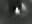person: (22, 4, 28, 18), (15, 7, 21, 16)
